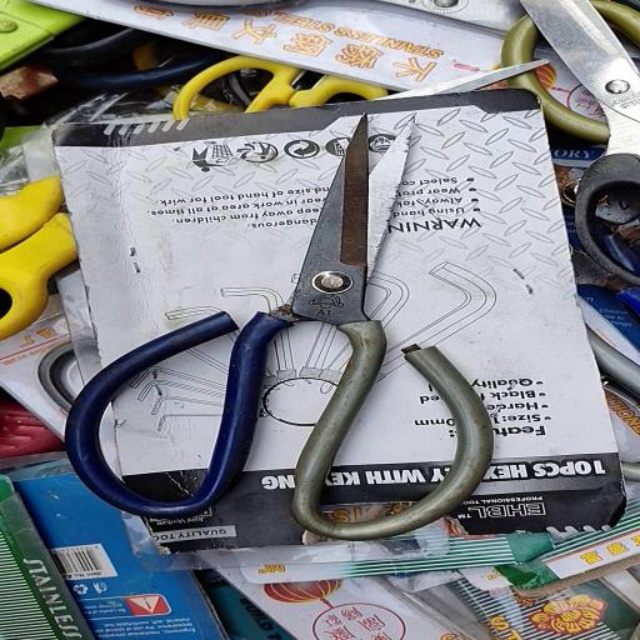scissor: (62, 108, 499, 545)
